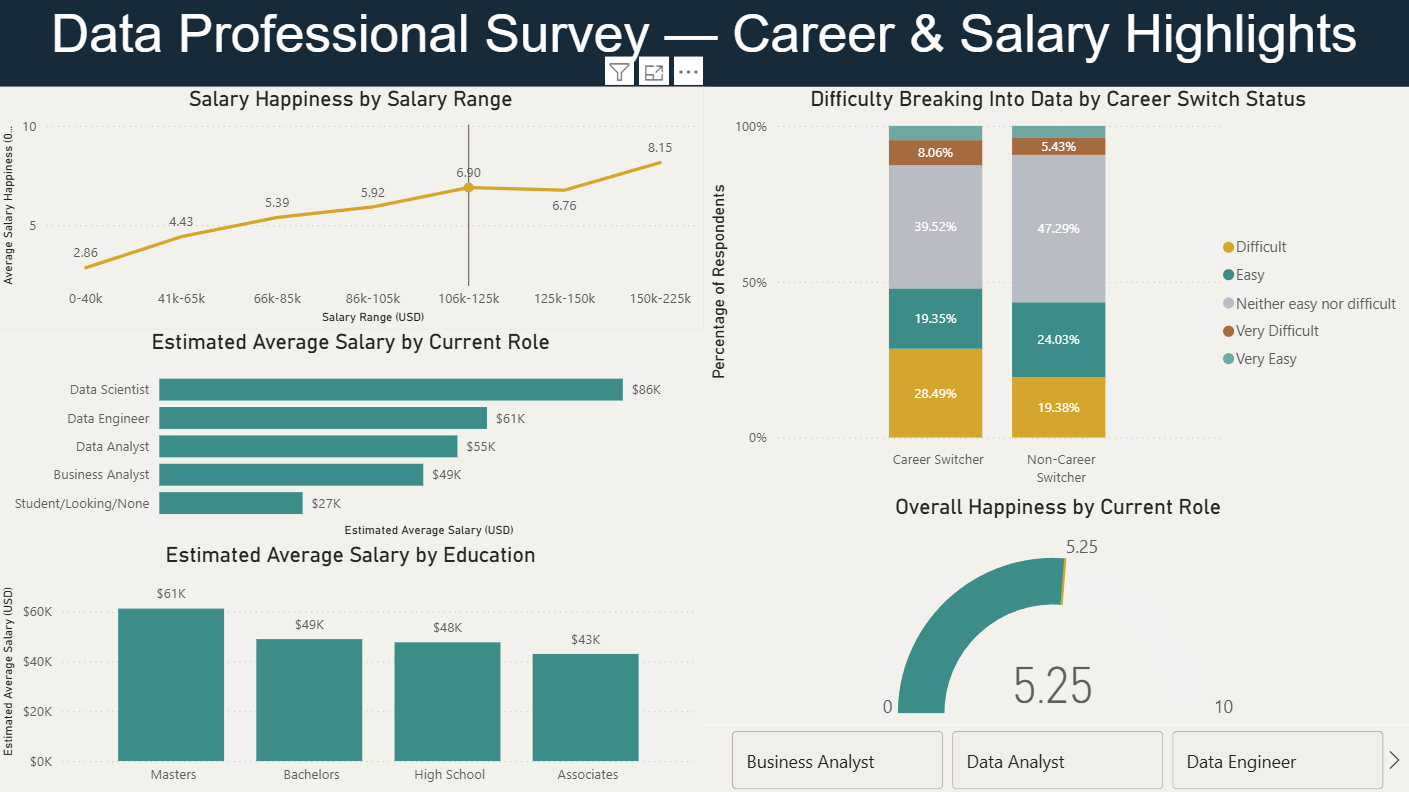

The dashboard page shown, as its layout file describes it:
{"tool":"powerbi","page":{"name":"Page 2","canvas":[1280,720],"ordinal":1},"visuals":[{"type":"textbox","box":[0,0,1279.5,80.8],"z":0},{"type":"clusteredBarChart","title":"Estimated Average Salary by Current Role","fields":{"Category":["data_profession_survey survey_staging3.current_role"],"Y":["Avg(data_profession_survey survey_staging3.salary_midpoint)"]},"box":[0,300,639.7,193.2],"z":1000},{"type":"hundredPercentStackedColumnChart","title":"Difficulty Breaking Into Data by Career Switch Status","fields":{"Series":["data_profession_survey survey_staging3.difficulty_breaking_into_data"],"Y":["CountNonNull(data_profession_survey survey_staging3.respondent_id)"],"Category":["data_profession_survey survey_staging3.Career Switch Status"]},"box":[639.7,80.8,639.7,368.5],"z":2000},{"type":"lineChart","title":"Salary Happiness by Salary Range","fields":{"Y":["Avg(data_profession_survey survey_staging3.salary_happiness)"],"Category":["data_profession_survey survey_staging3.salary"]},"box":[0,80.8,639.7,219.2],"z":3000},{"type":"columnChart","title":"Estimated Average Salary by Education","fields":{"Category":["data_profession_survey survey_staging3.highest_education"],"Y":["Avg(data_profession_survey survey_staging3.salary_midpoint)"]},"box":[0,493.2,639.7,227.4],"z":4000},{"type":"gauge","title":"Overall Happiness by Current Role","fields":{"Y":["data_profession_survey survey_staging3.Overall Happiness"],"MinValue":["data_profession_survey survey_staging3.Happiness Minimum"],"MaxValue":["data_profession_survey survey_staging3.Happiness Maximum"],"TargetValue":["data_profession_survey survey_staging3.Overall Happiness Benchmark"]},"box":[639.7,449.3,639.7,208.2],"z":5000},{"type":"advancedSlicerVisual","fields":{"Values":["data_profession_survey survey_staging3.current_role"]},"box":[639.7,657.5,639.7,63],"z":6000}]}

Visuals, with their boxes in screenshot pixels (x1, y1, x2, y2), scaled from the page's 1280x720 canvas onto the 1409x792 screenshot:
textbox: select_region(0, 0, 1408, 89)
"Estimated Average Salary by Current Role" clusteredBarChart: select_region(0, 330, 704, 543)
"Difficulty Breaking Into Data by Career Switch Status" hundredPercentStackedColumnChart: select_region(704, 89, 1408, 494)
"Salary Happiness by Salary Range" lineChart: select_region(0, 89, 704, 330)
"Estimated Average Salary by Education" columnChart: select_region(0, 543, 704, 791)
"Overall Happiness by Current Role" gauge: select_region(704, 494, 1408, 723)
advancedSlicerVisual - data_profession_survey survey_staging3.current_role: select_region(704, 723, 1408, 791)
